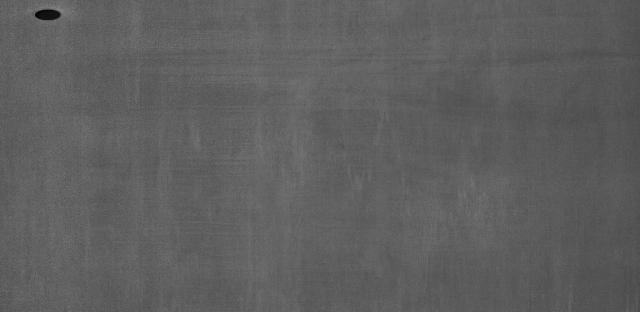punching_hole: (32, 7, 66, 25)
